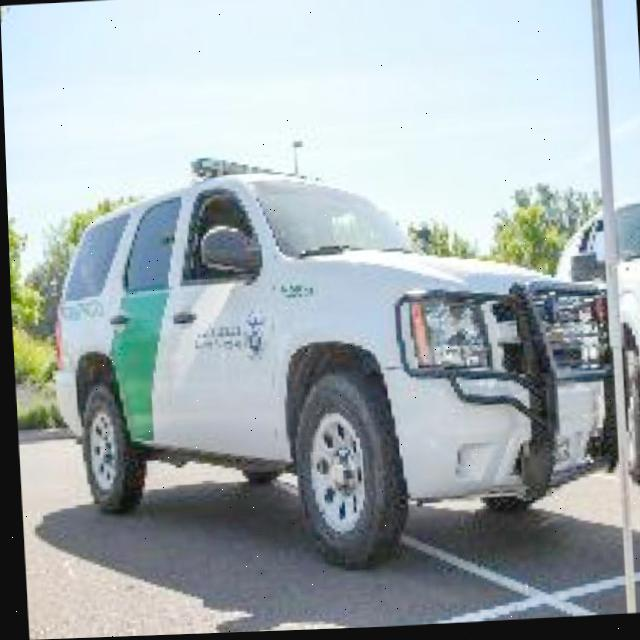emergency: (37, 137, 629, 586)
